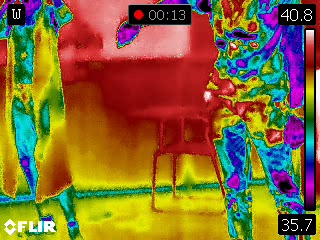human: (115, 1, 310, 240), (1, 1, 85, 239)
